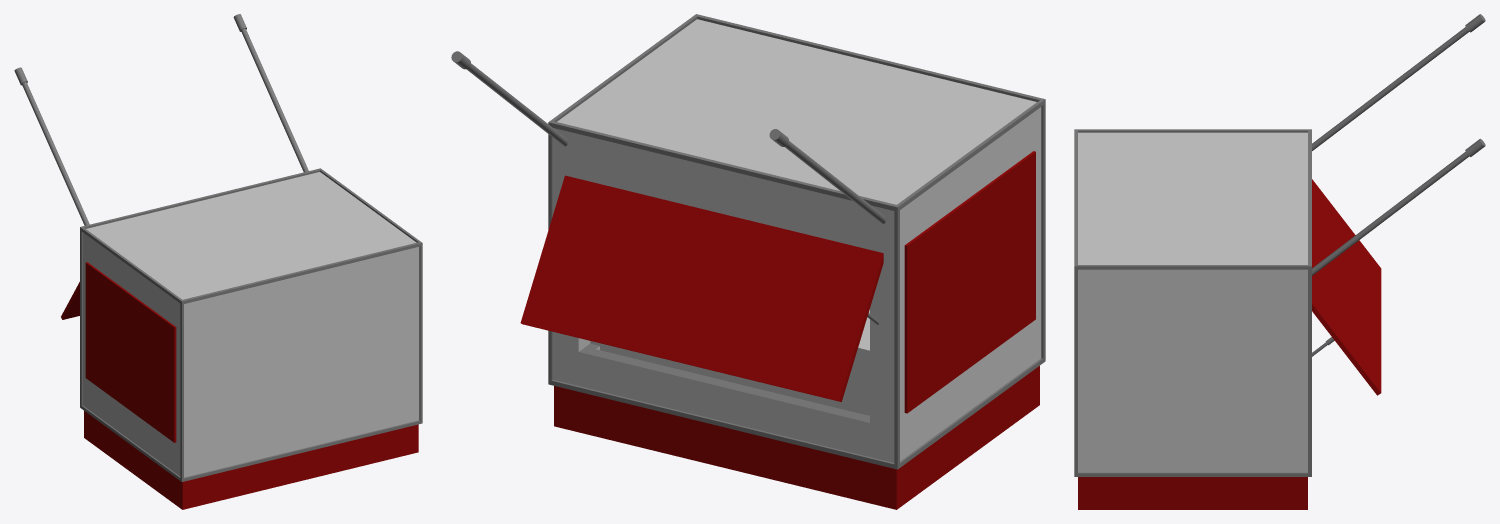
Rendered from stm_loempiaStand.FBX.
3 renders of one model, left to right at view 1: azimuth 30°, elevation 25°; view 2: azimuth 150°, elevation 25°; view 3: azimuth 270°, elevation 25°, orthographic. The views are drawn at different scales.
Visible parts, largest first — view 1: Box001, Box003, Cylinder001, Cylinder002; view 2: Box001, Box002, Box003, Box004, Box005, Cylinder002, Cylinder001; view 3: Box001, Box002, Cylinder001, Cylinder002.
Part boxes in pixels (x1=…): Box001: x1=80, y1=168, x2=422, y2=509; Box003: x1=85, y1=262, x2=176, y2=442; Cylinder001: x1=14, y1=67, x2=89, y2=225; Cylinder002: x1=233, y1=14, x2=308, y2=172; Box001: x1=548, y1=14, x2=1045, y2=509; Box002: x1=520, y1=175, x2=883, y2=401; Box003: x1=904, y1=151, x2=1035, y2=413; Box004: x1=780, y1=309, x2=869, y2=415; Box005: x1=590, y1=341, x2=780, y2=393; Cylinder002: x1=451, y1=51, x2=567, y2=146; Cylinder001: x1=769, y1=129, x2=885, y2=223; Box001: x1=1074, y1=129, x2=1311, y2=509; Box002: x1=1312, y1=179, x2=1381, y2=395; Cylinder001: x1=1312, y1=14, x2=1485, y2=150; Cylinder002: x1=1312, y1=138, x2=1485, y2=275.
Bounding box in the file's own units: 353 × 440 × 448.
